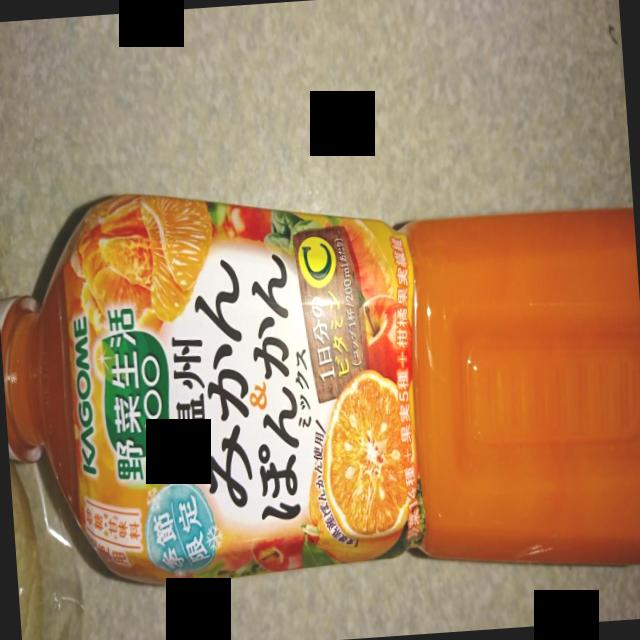juice: (0, 194, 640, 588)
